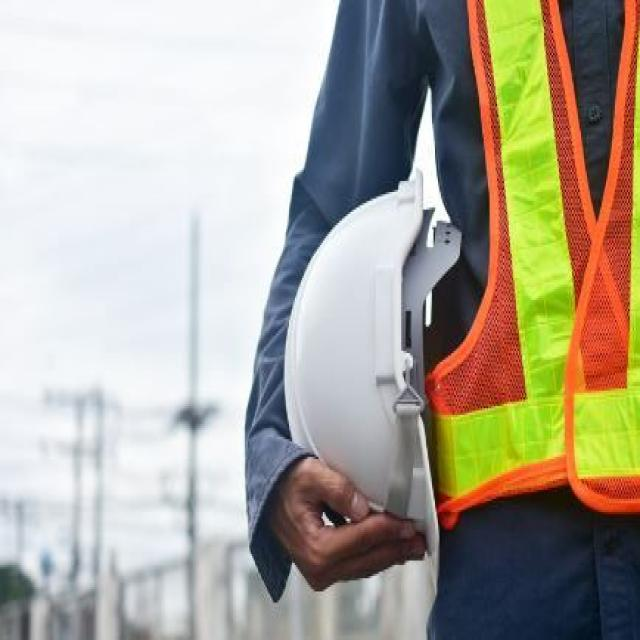vest: (417, 0, 640, 517)
